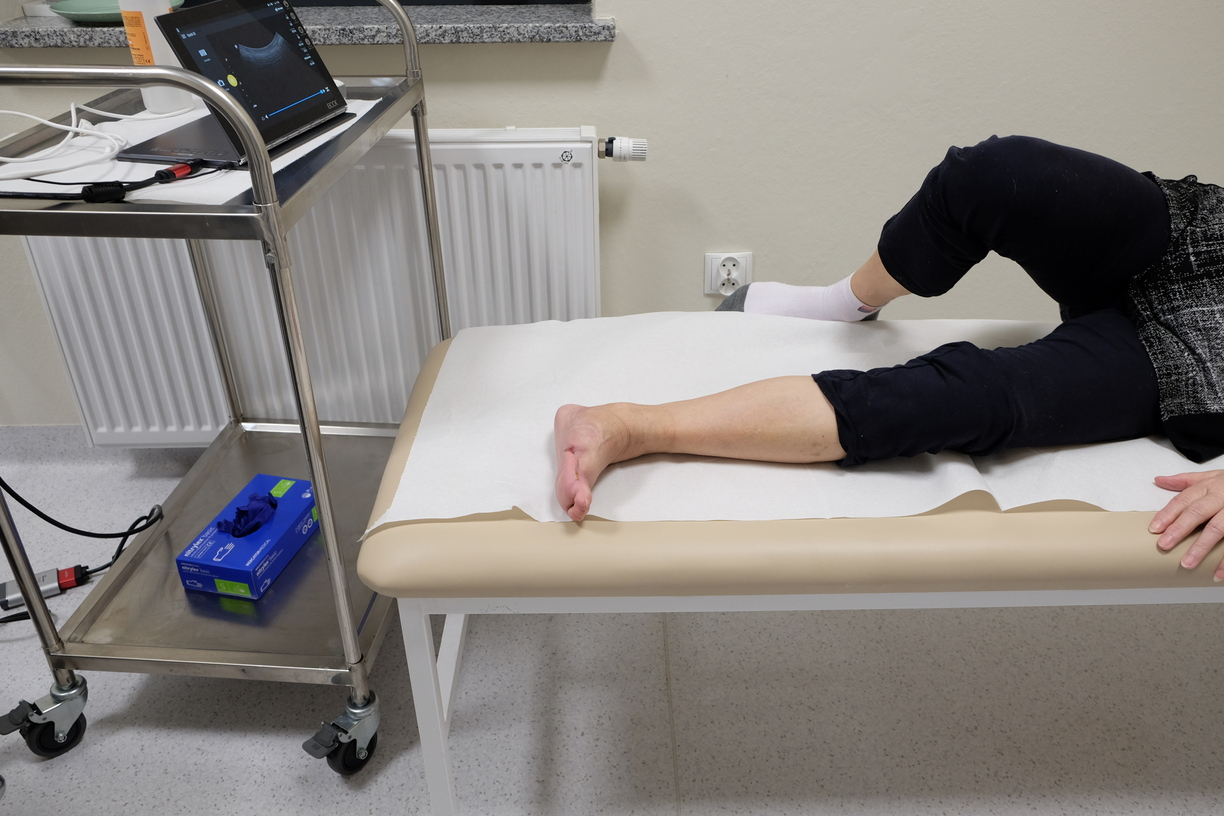wound: (562, 441, 579, 461)
